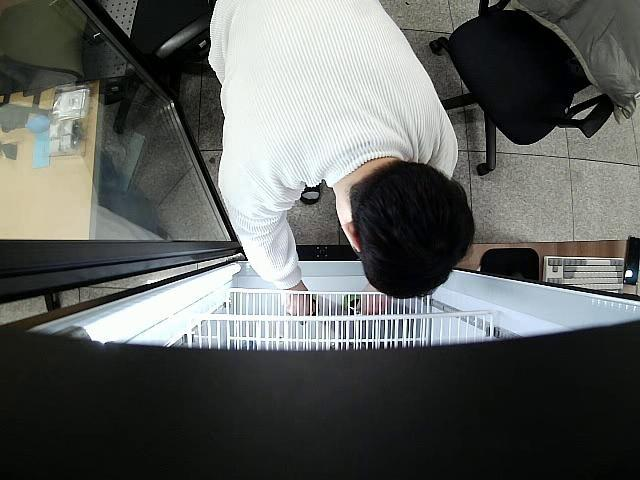19_17cha: (345, 292, 363, 314)
